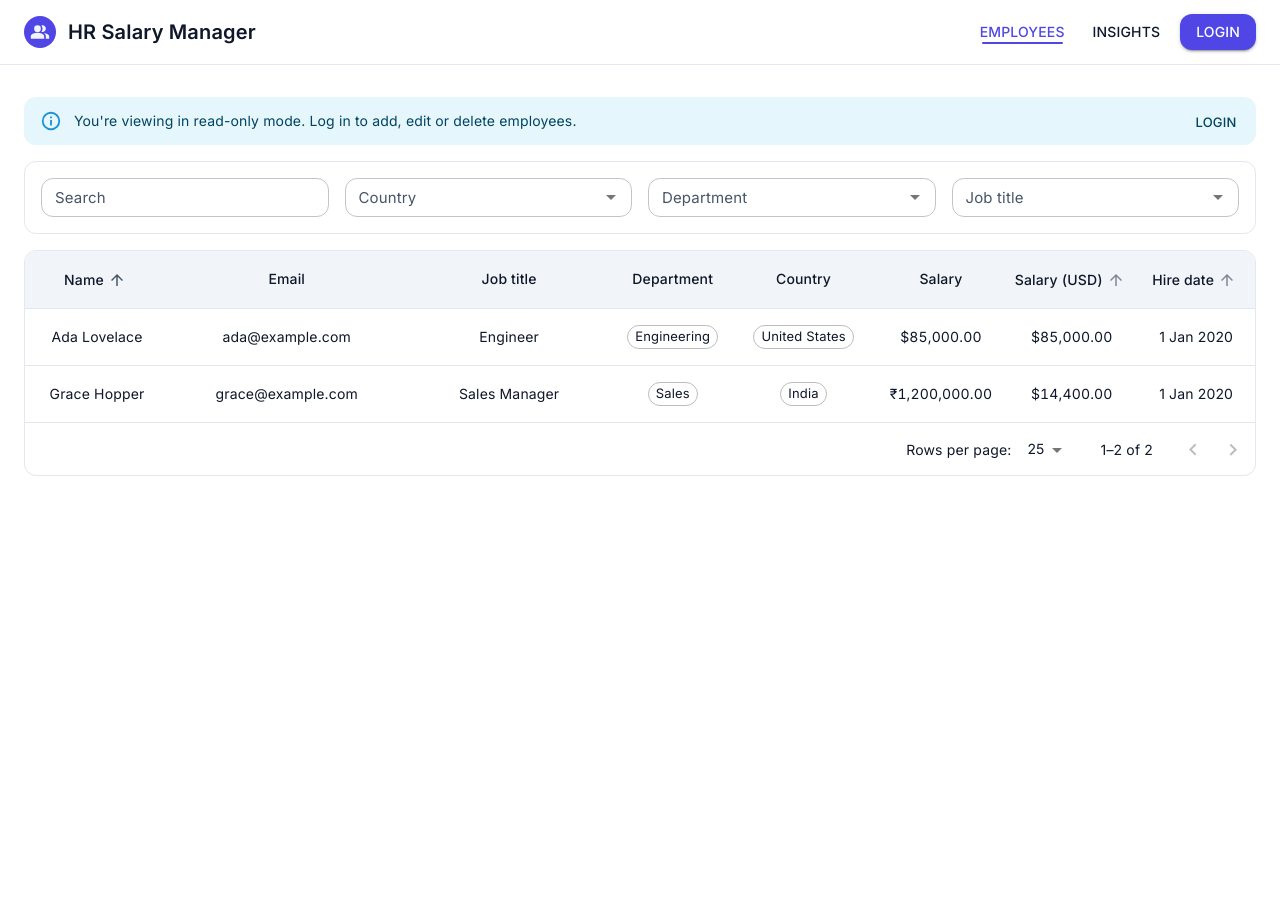
Test: App read-only alert › shows the read-only alert when logged out, and it disappears after logging in
The width and height of the screenshot is (1280, 900).
Expected: the text "Ada Lovelace" is shown, [25,309,169,366]
Expected: the text "viewing in read-only mode" is shown, [74,112,577,129]
Click the 2nd link "Login" at (1216, 122), box [1196,114,1236,130]
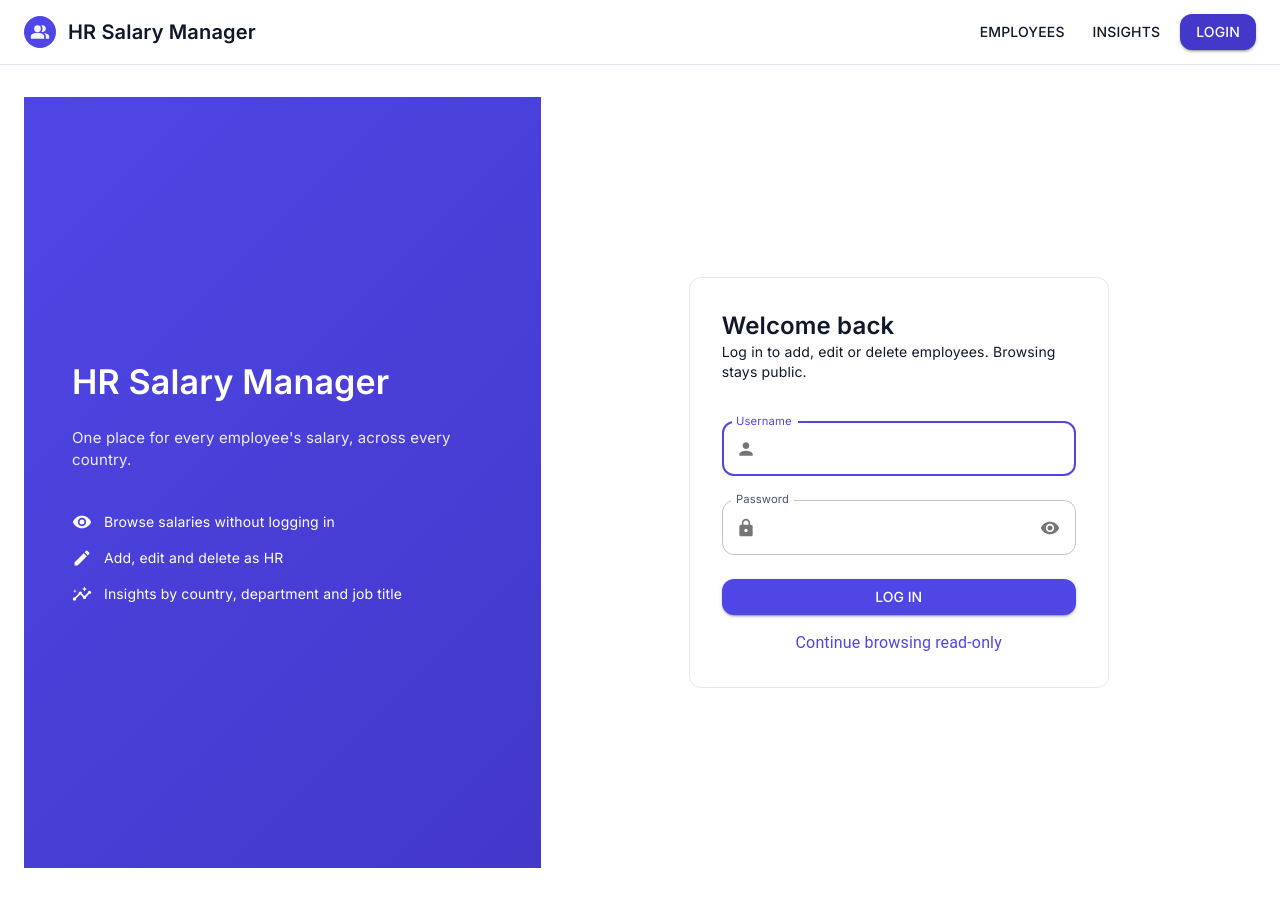
Type "hr" into the field labelled "Username" at (920, 449), box [764,422,1076,476]
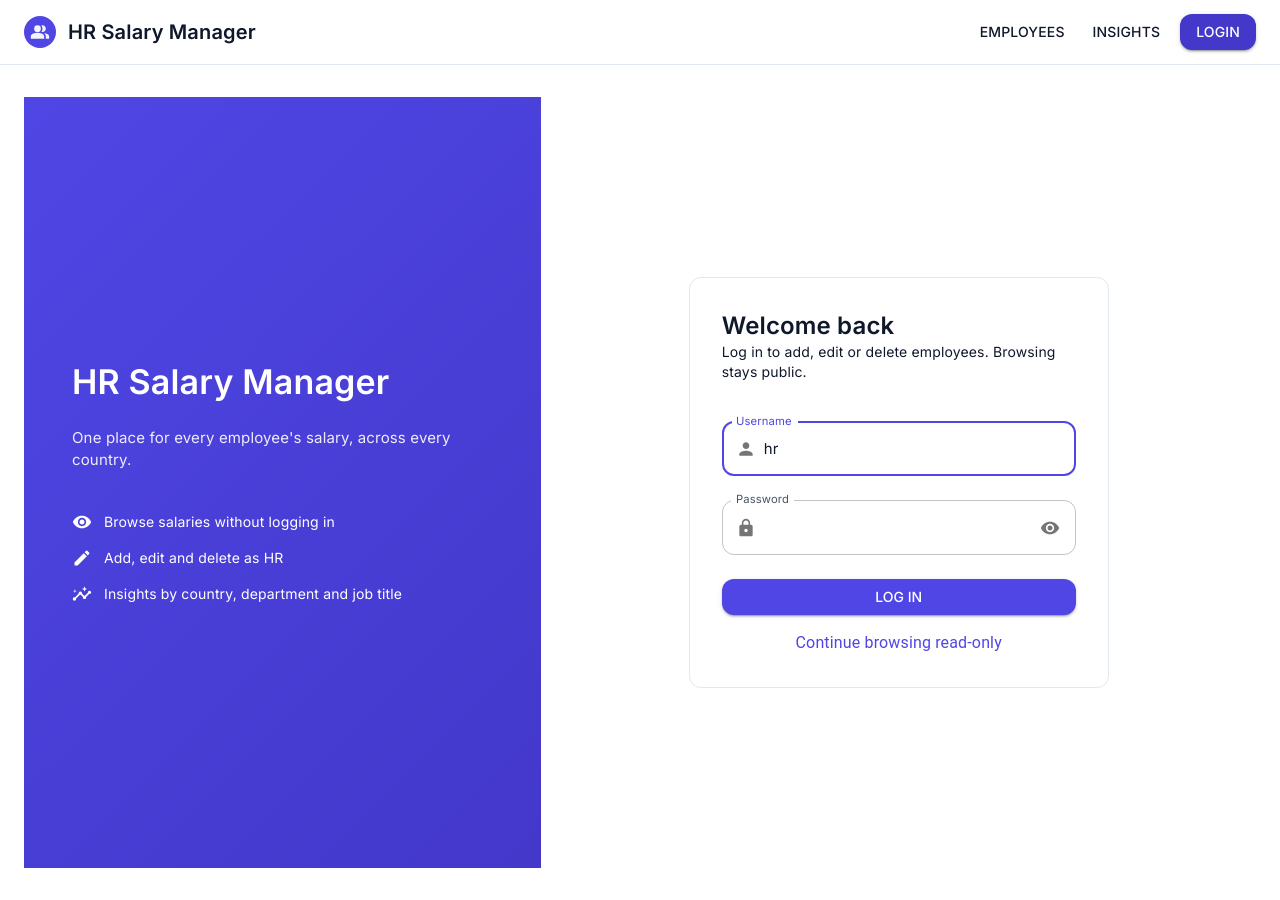
Type "test-password" into the password field labelled "Password" at (895, 528), box [764,500,1027,555]
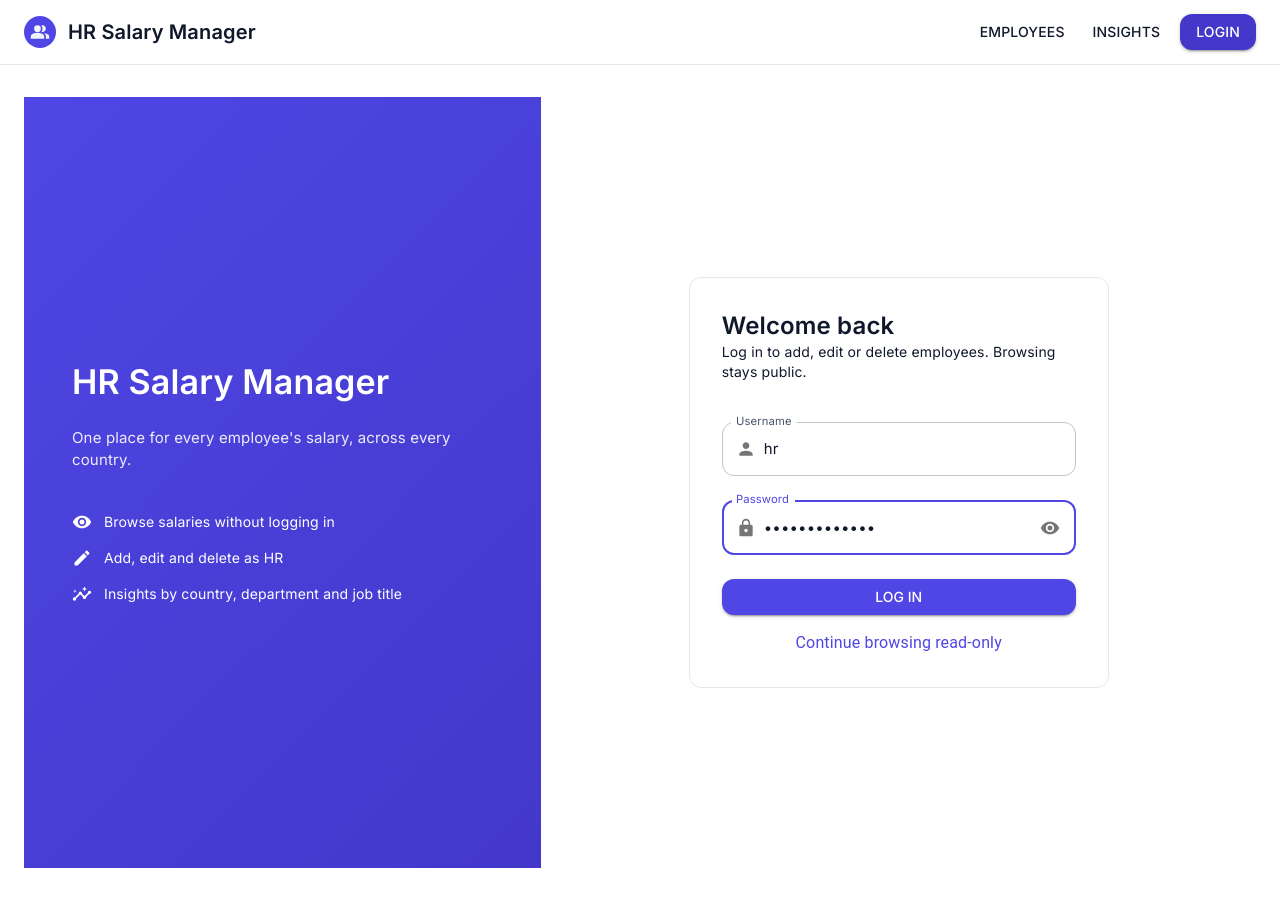
Click the button "Log in" at (899, 597), box [722,579,1076,615]
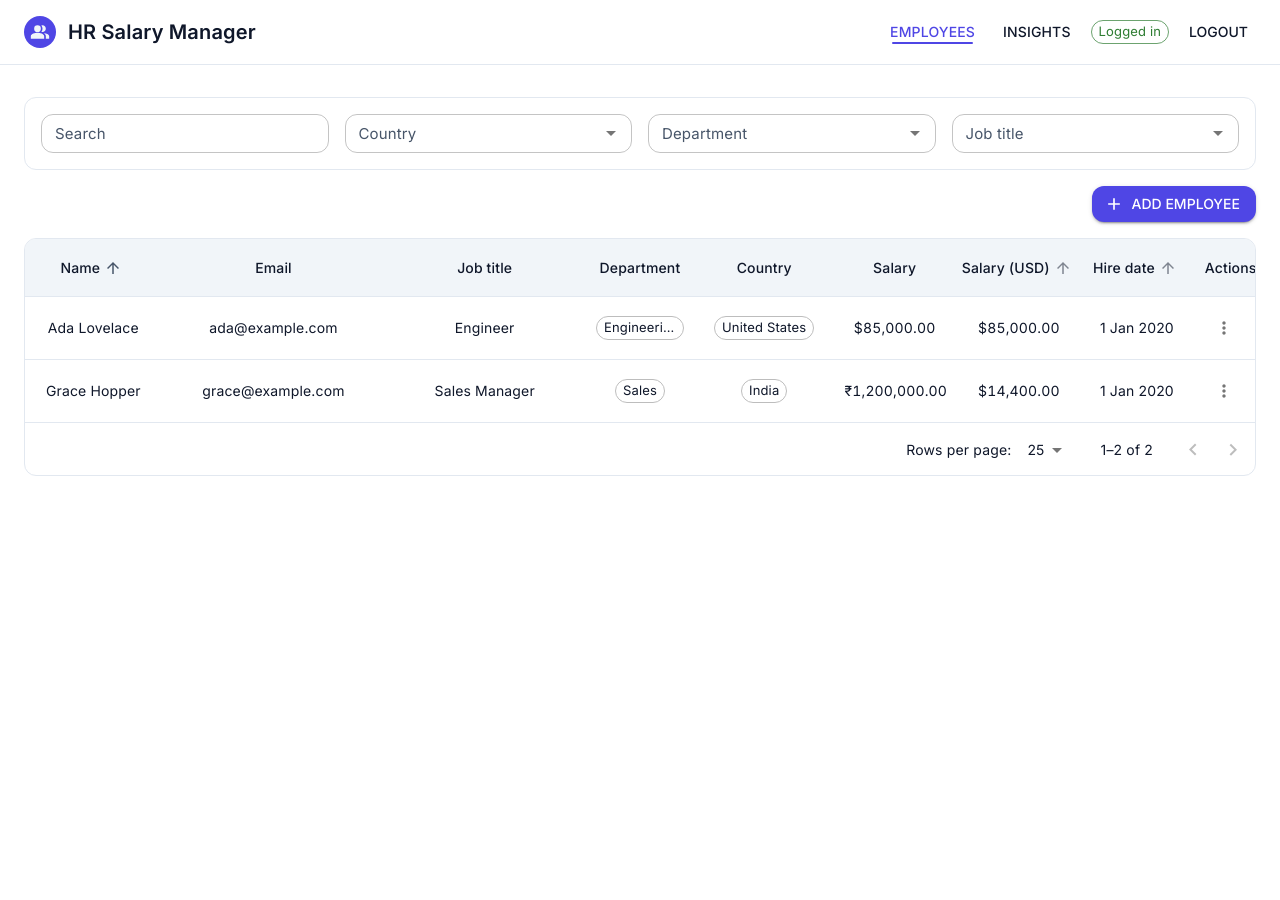
Expected: the text "viewing in read-only mode" is not shown
Now the text "Ada Lovelace" is shown, box [25,297,162,360]
